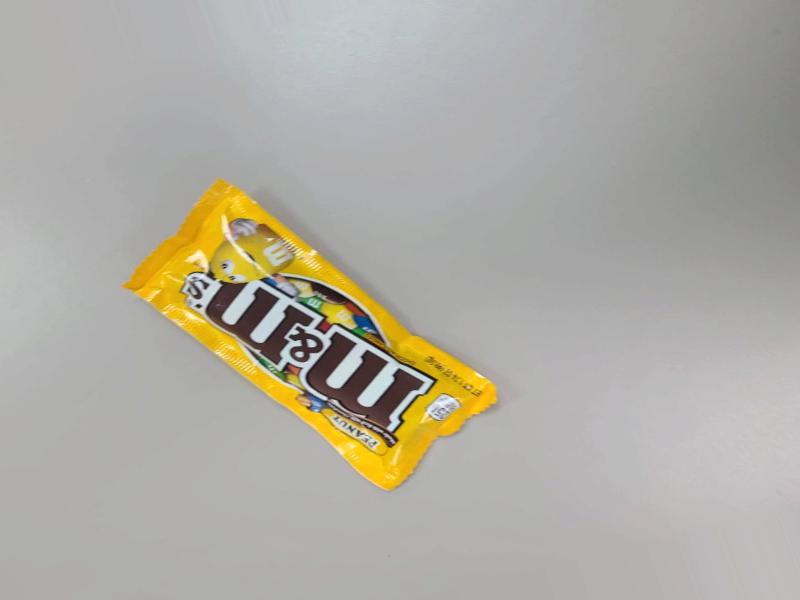m&m: (129, 177, 506, 493)
